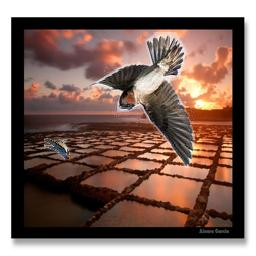Swallow: (89, 32, 196, 168), (44, 138, 70, 160)
